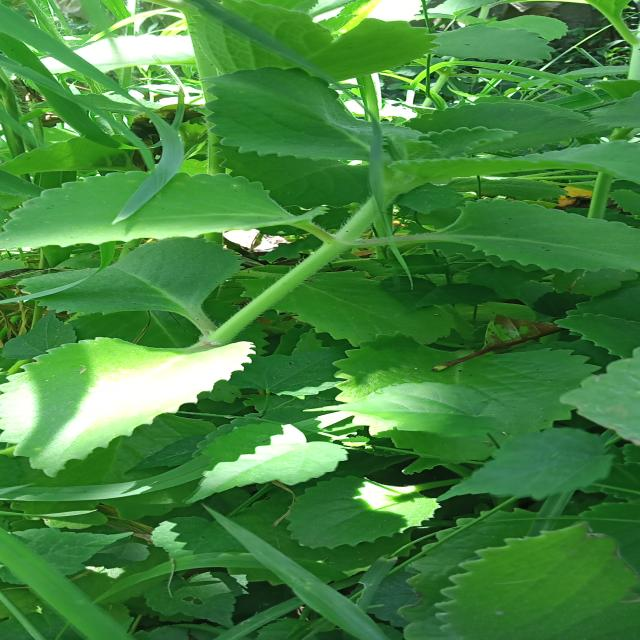Oregano: (0, 328, 273, 480), (1, 157, 312, 274), (380, 520, 640, 640)
